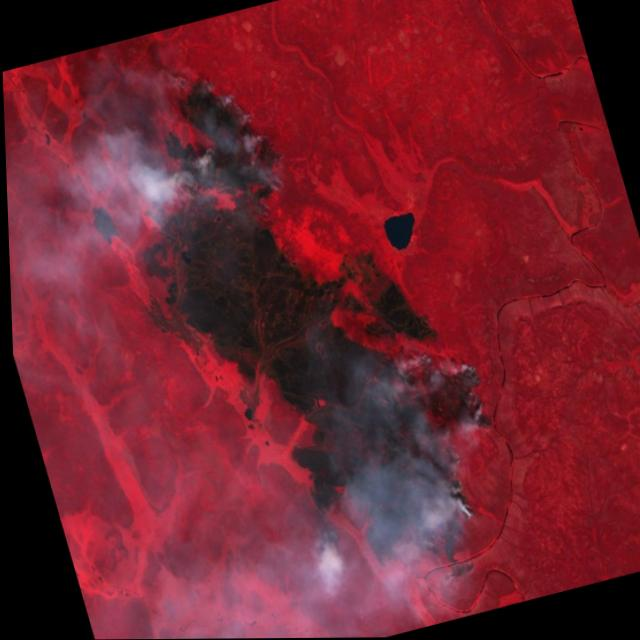fire: (263, 343, 537, 622), (121, 48, 299, 234)
